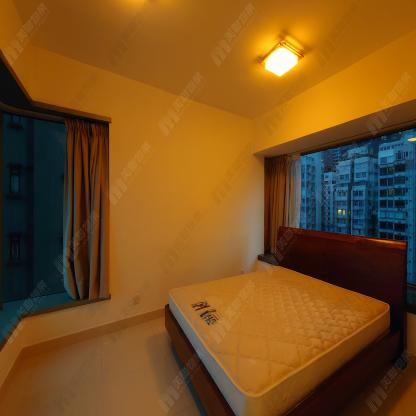Bed: (164, 265, 406, 416)
Windowsill: (252, 99, 416, 312), (0, 51, 112, 354)
